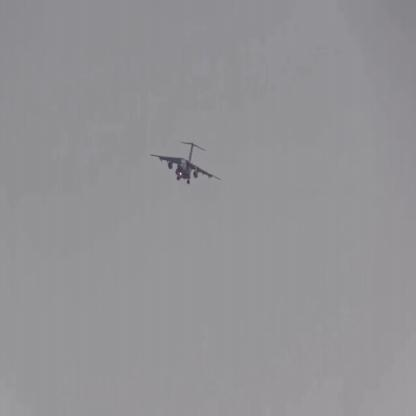CIV_Plane: (150, 136, 224, 184)
